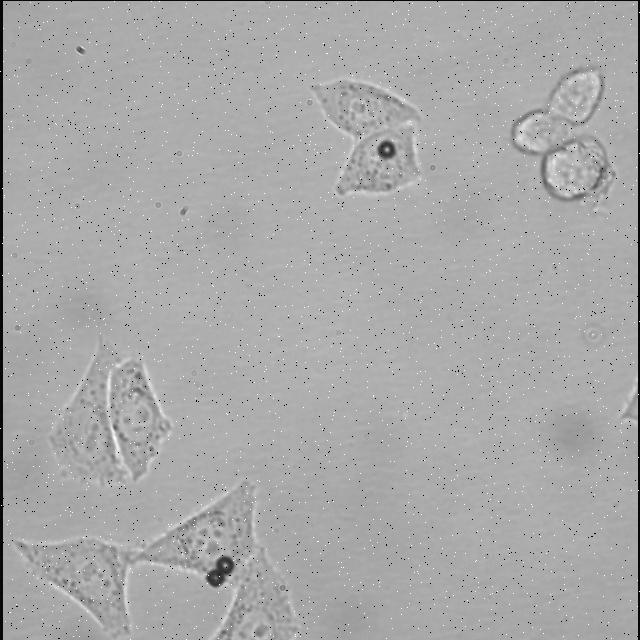microbeads: (205, 567, 227, 587), (216, 552, 234, 574), (376, 140, 394, 158)
